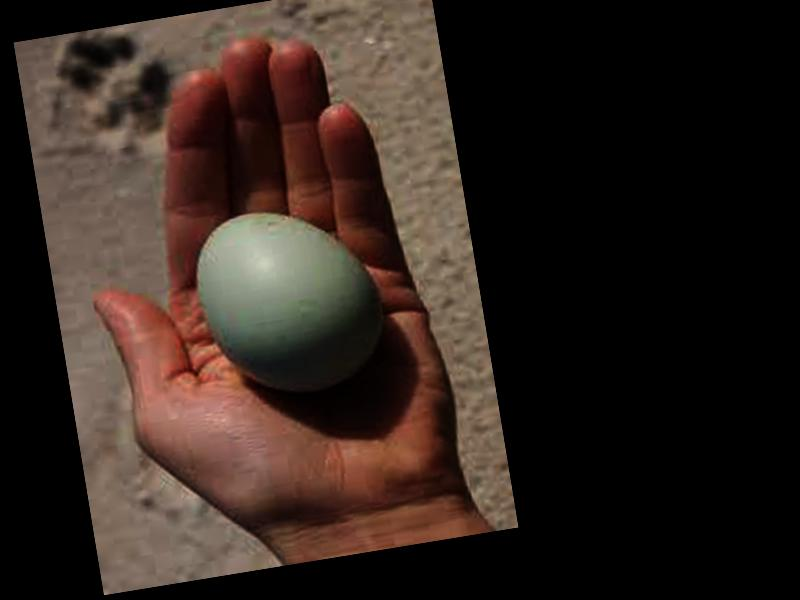Eggs: (191, 198, 393, 403)
